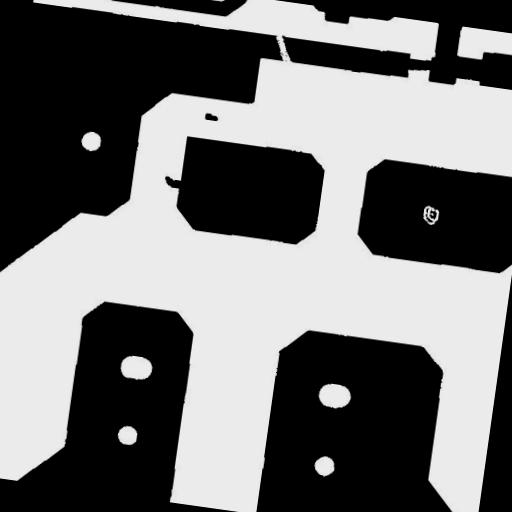copper: (196, 104, 227, 130)
open: (264, 25, 306, 74)
pin-hole: (413, 196, 448, 234)
short: (394, 48, 444, 82)
spur: (155, 168, 192, 198)
